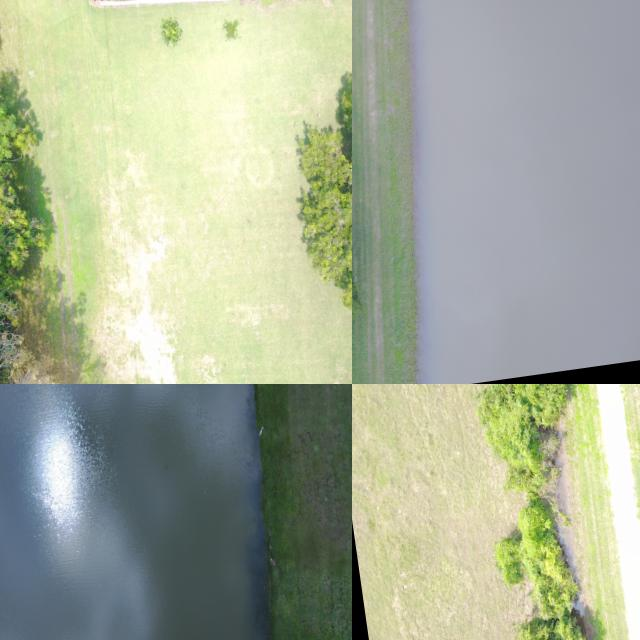fire: (412, 0, 640, 384), (0, 384, 268, 640)
